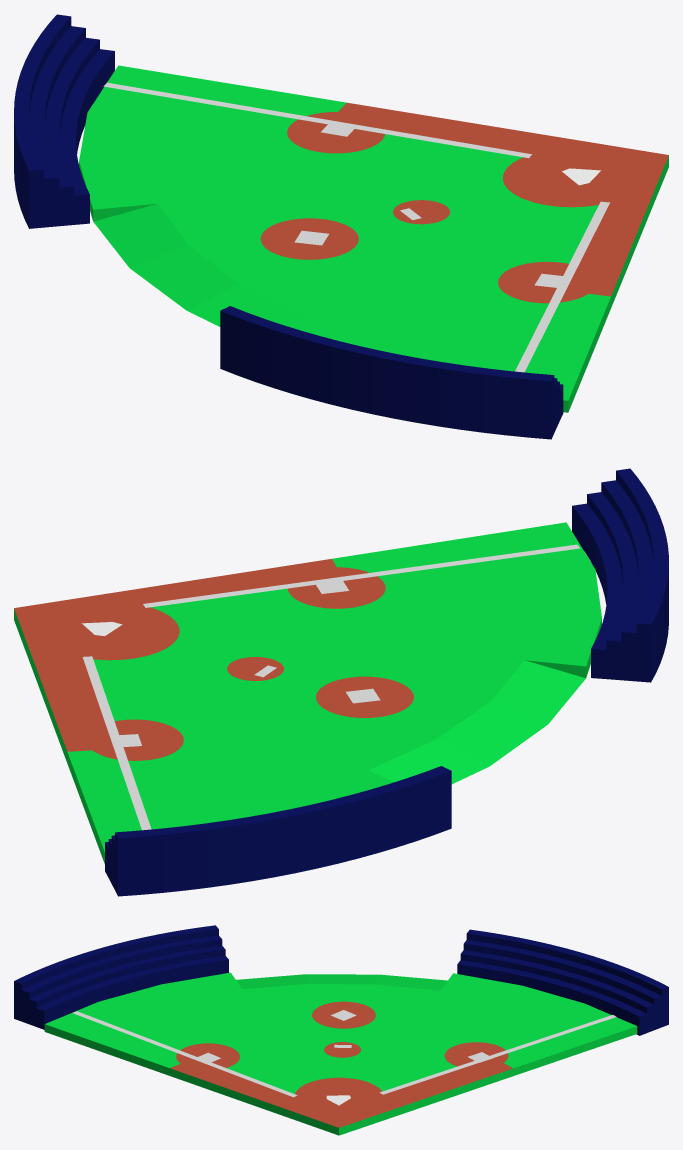
File: yakyuuban.fbx
The picture shows the model from 3 angles, top to bottom: view 1: azimuth 30°, elevation 25°; view 2: azimuth 150°, elevation 25°; view 3: azimuth 270°, elevation 25°; orthographic projection. The views are drawn at different scales.
Parts seen in each view (by area): view 1: 円柱, 立方体.001, 立方体.003, 円柱.001, 円柱.004, 円柱.003, 円柱.005, 平面.001, 平面.002, 円柱.002; view 2: 円柱, 立方体.003, 立方体.001, 円柱.001, 円柱.004, 円柱.003, 円柱.005, 平面.002, 平面.001, 円柱.002; view 3: 円柱, 立方体.001, 立方体.003, 円柱.001, 円柱.004, 円柱.003, 円柱.005, 平面.002, 平面.001, 円柱.002.
Part boxes in pixels (bbox=[...]): 円柱: bbox=[79, 65, 668, 412]; 立方体.001: bbox=[220, 306, 563, 439]; 立方体.003: bbox=[14, 14, 114, 228]; 円柱.001: bbox=[502, 149, 640, 207]; 円柱.004: bbox=[260, 218, 358, 259]; 円柱.003: bbox=[287, 112, 384, 153]; 円柱.005: bbox=[498, 261, 596, 303]; 平面.001: bbox=[103, 82, 531, 158]; 平面.002: bbox=[515, 201, 609, 372]; 円柱.002: bbox=[393, 200, 449, 224]; 円柱: bbox=[14, 522, 601, 863]; 立方体.003: bbox=[105, 766, 451, 896]; 立方体.001: bbox=[572, 468, 668, 682]; 円柱.001: bbox=[42, 602, 179, 660]; 円柱.004: bbox=[316, 676, 413, 717]; 円柱.003: bbox=[86, 719, 183, 760]; 円柱.005: bbox=[288, 567, 385, 608]; 平面.002: bbox=[143, 544, 579, 607]; 平面.001: bbox=[82, 656, 151, 830]; 円柱.002: bbox=[227, 657, 283, 680]; 円柱: bbox=[44, 972, 637, 1135]; 立方体.001: bbox=[14, 925, 228, 1029]; 立方体.003: bbox=[457, 929, 668, 1035]; 円柱.001: bbox=[294, 1077, 383, 1115]; 円柱.004: bbox=[312, 1001, 375, 1028]; 円柱.003: bbox=[444, 1042, 508, 1069]; 円柱.005: bbox=[176, 1043, 239, 1070]; 平面.002: bbox=[73, 1011, 297, 1097]; 平面.001: bbox=[379, 1015, 616, 1094]; 円柱.002: bbox=[324, 1042, 360, 1057].
Size of the model in its own units: 660 by 72.43 by 1060.
